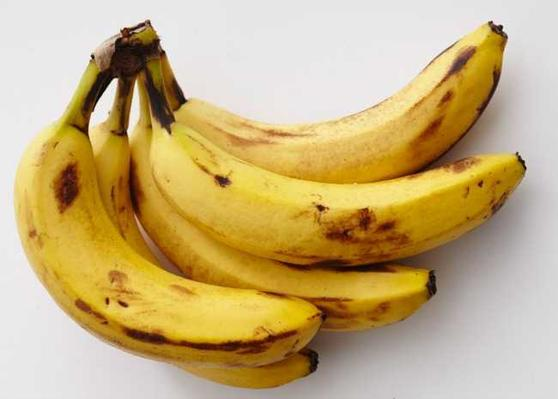banana: (11, 119, 315, 363), (156, 105, 536, 287)
